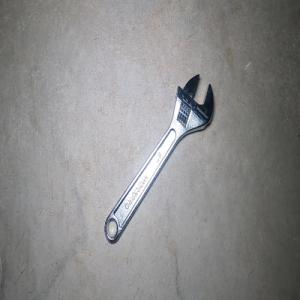Wrench: (104, 74, 213, 243)
